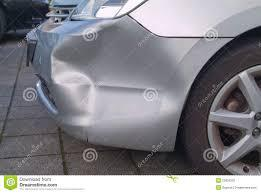front-bumper-dent: (3, 19, 214, 159)
